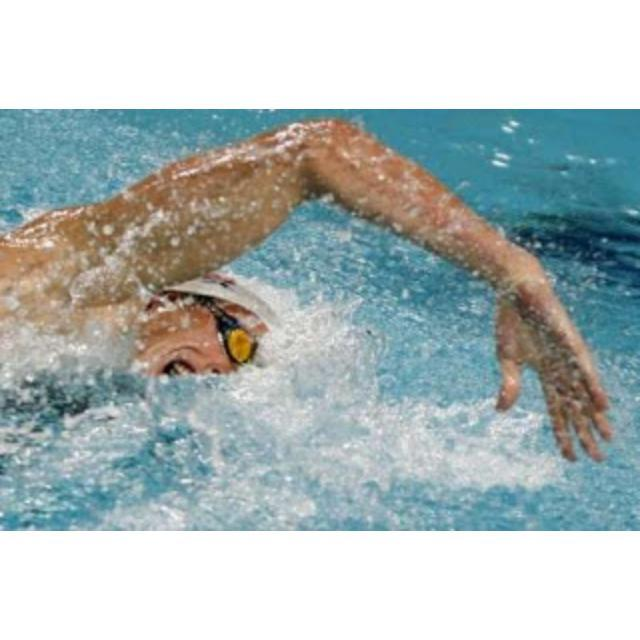human: (1, 113, 619, 469)
